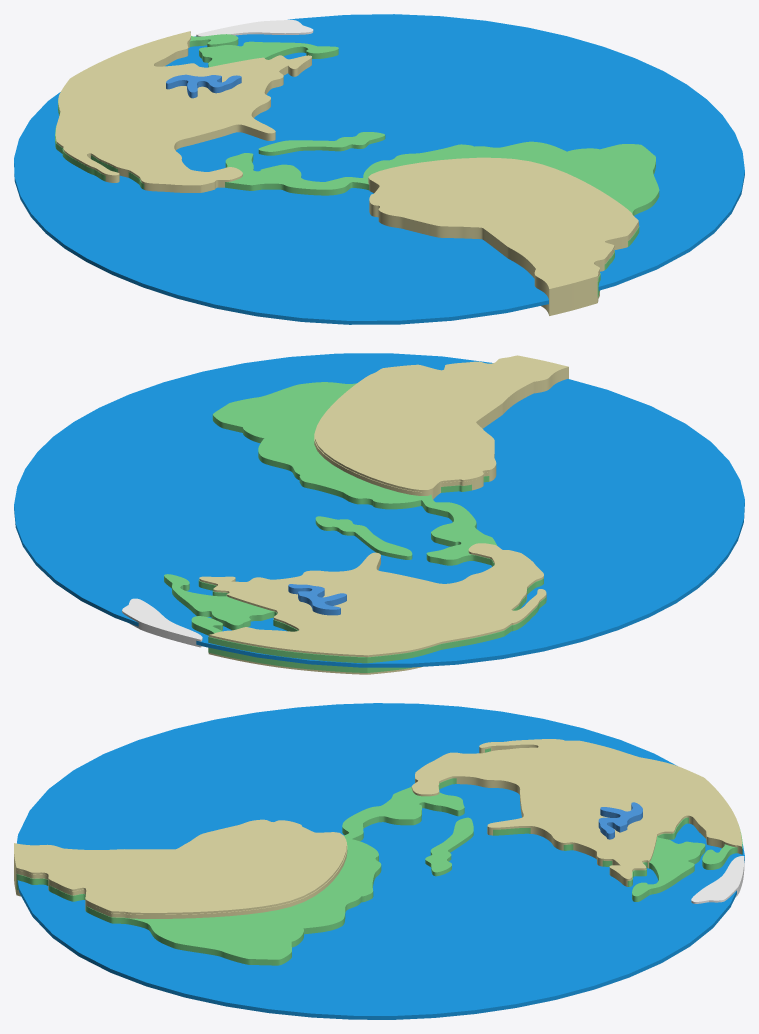
Rendered from emoji_u1f30e.glb.
The picture shows the model from 3 angles, top to bottom: view 1: azimuth 30°, elevation 25°; view 2: azimuth 150°, elevation 25°; view 3: azimuth 270°, elevation 25°; orthographic projection.
Parts seen in each view (by area): view 1: emoji_u1f30e; view 2: emoji_u1f30e; view 3: emoji_u1f30e.
Boxes of the visible parts, left/top/right/bottom form: emoji_u1f30e: left=14, top=14, right=744, bottom=324; emoji_u1f30e: left=14, top=353, right=744, bottom=674; emoji_u1f30e: left=14, top=703, right=744, bottom=1019.
Size of the model in its own units: 0.0341 by 0.0016 by 0.0337.
